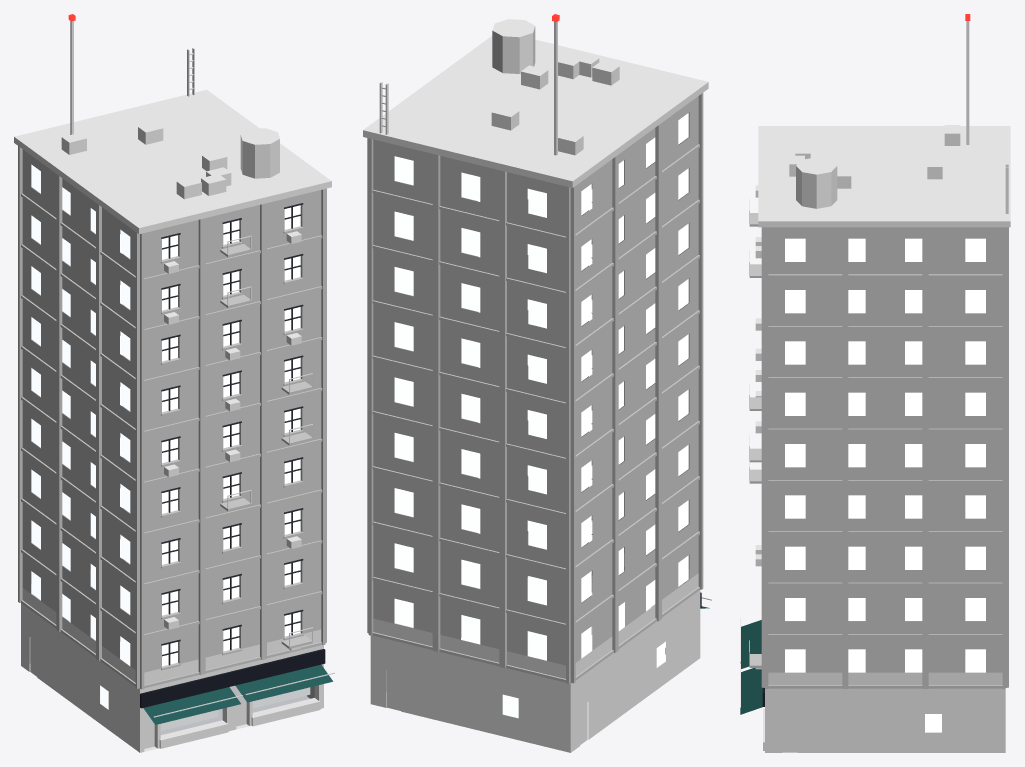
Rendered from bld_neon_01_b.glb.
The picture shows the model from 3 angles, left to right: view 1: azimuth 30°, elevation 25°; view 2: azimuth 150°, elevation 25°; view 3: azimuth 270°, elevation 25°; orthographic projection. The views are drawn at different scales.
Parts seen in each view (by area): view 1: LOD0; view 2: LOD0; view 3: LOD0.
Part boxes in pixels (x1,y1,x2,y2): LOD0: (14,14,334,752); LOD0: (363,14,711,752); LOD0: (740,14,1010,752).
Size of what is drawn, in the model's own units: 13.1 by 42.6 by 15.75.
